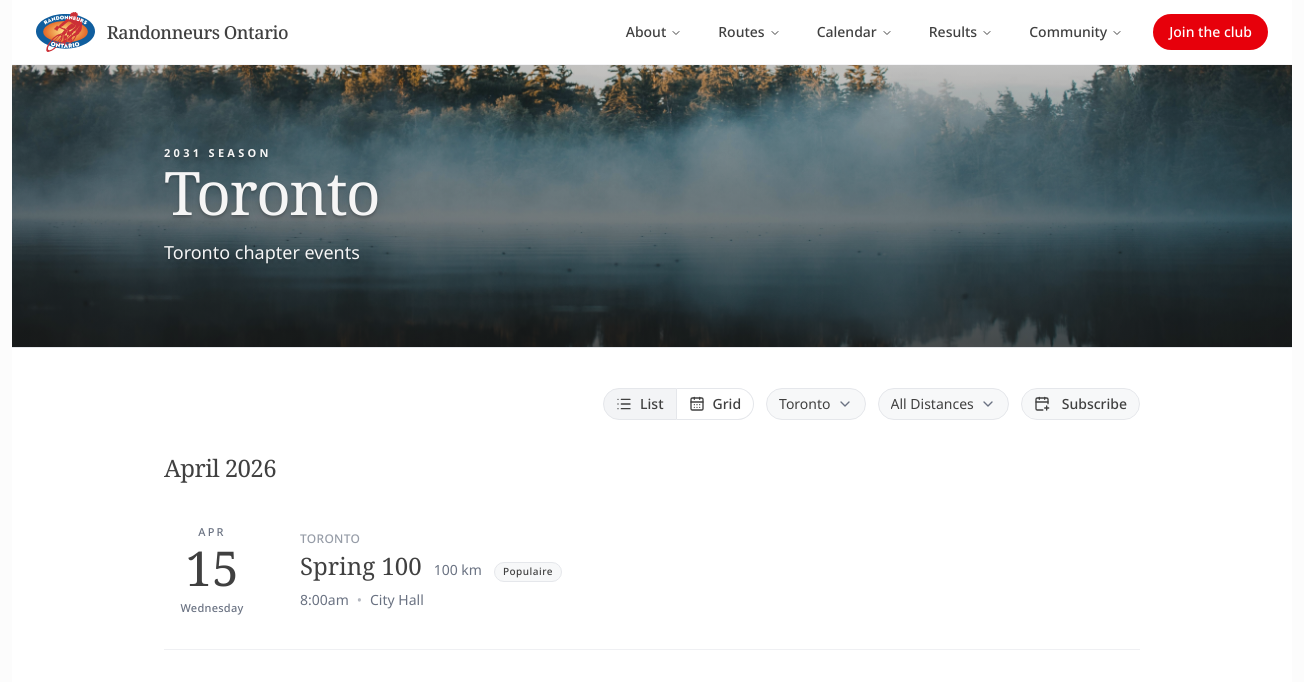
CalendarPage › applies distance filter in grid view too
Note: Switch to grid view
Click the radio button with aria-label "Grid view" at (715, 404), box [676, 388, 754, 420]
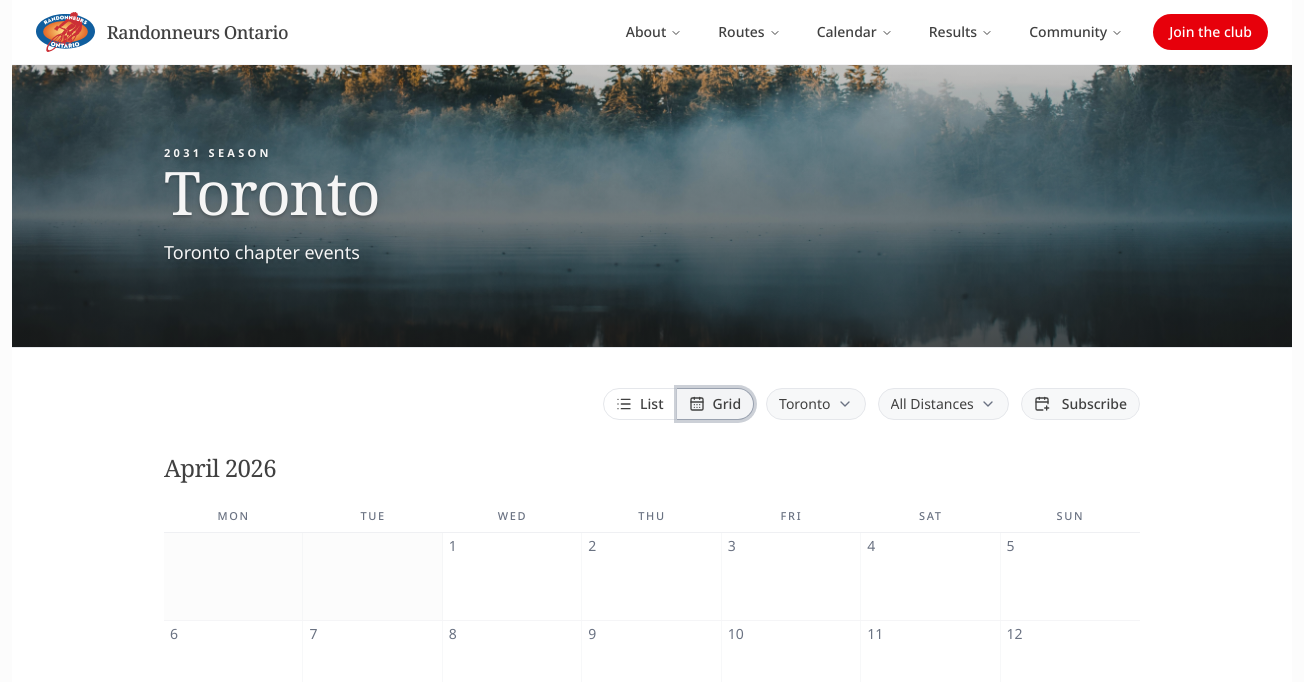
Note: Filter to 200 km
Click the dropdown named "Filter by distance" at (943, 404), box [878, 388, 1009, 420]
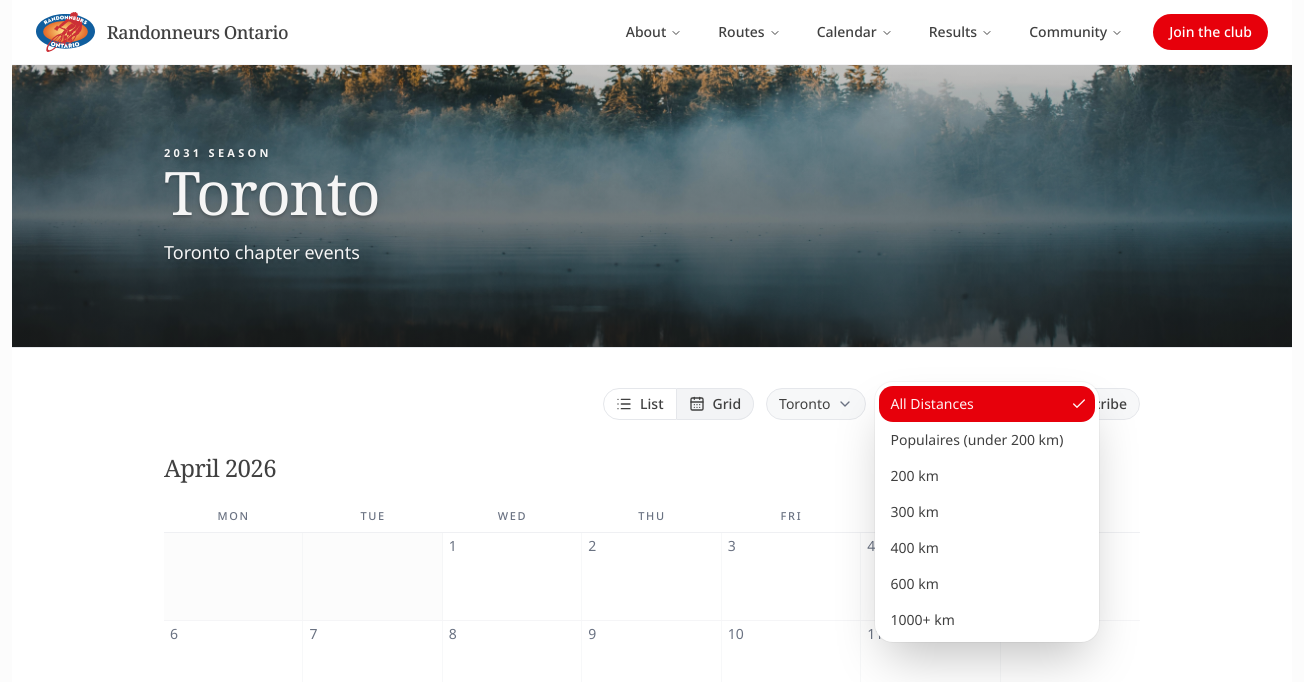
Click the option "200 km" at (915, 475), box [890, 466, 939, 485]
(page scrolled)
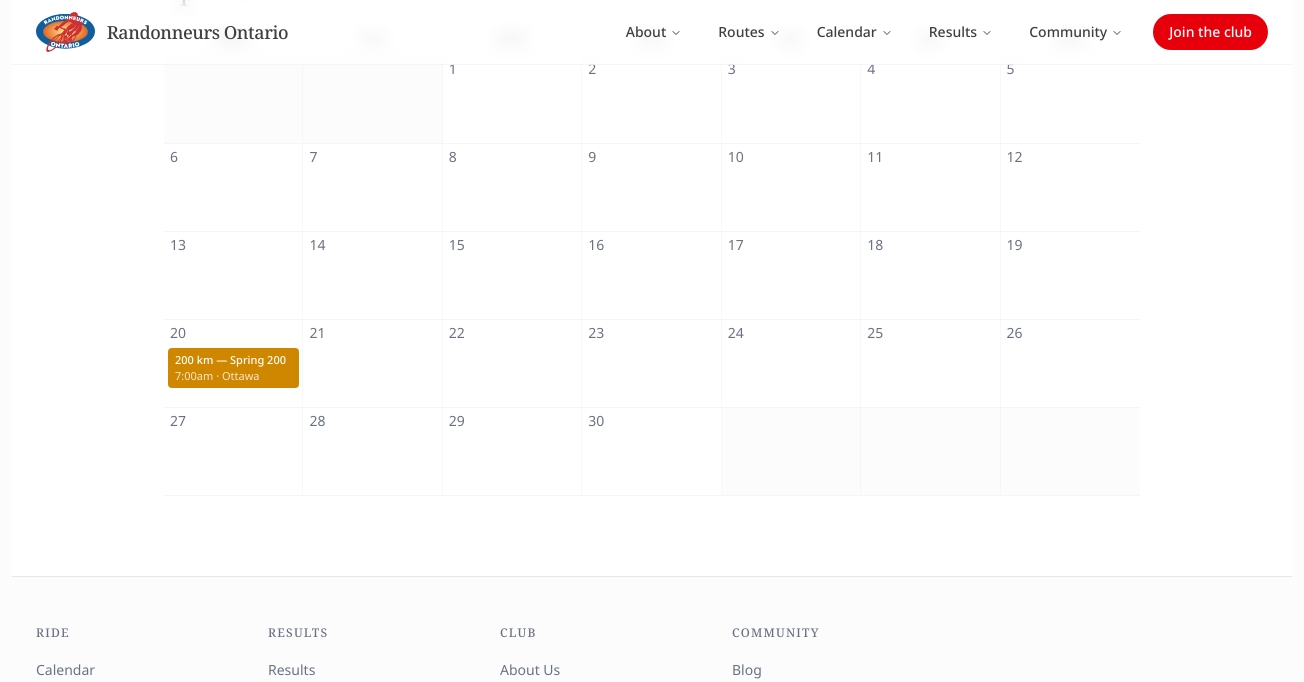
Now the text "200 km — Spring 200" is shown, box [175, 353, 292, 367]
Now the text "Spring 100" is not shown
